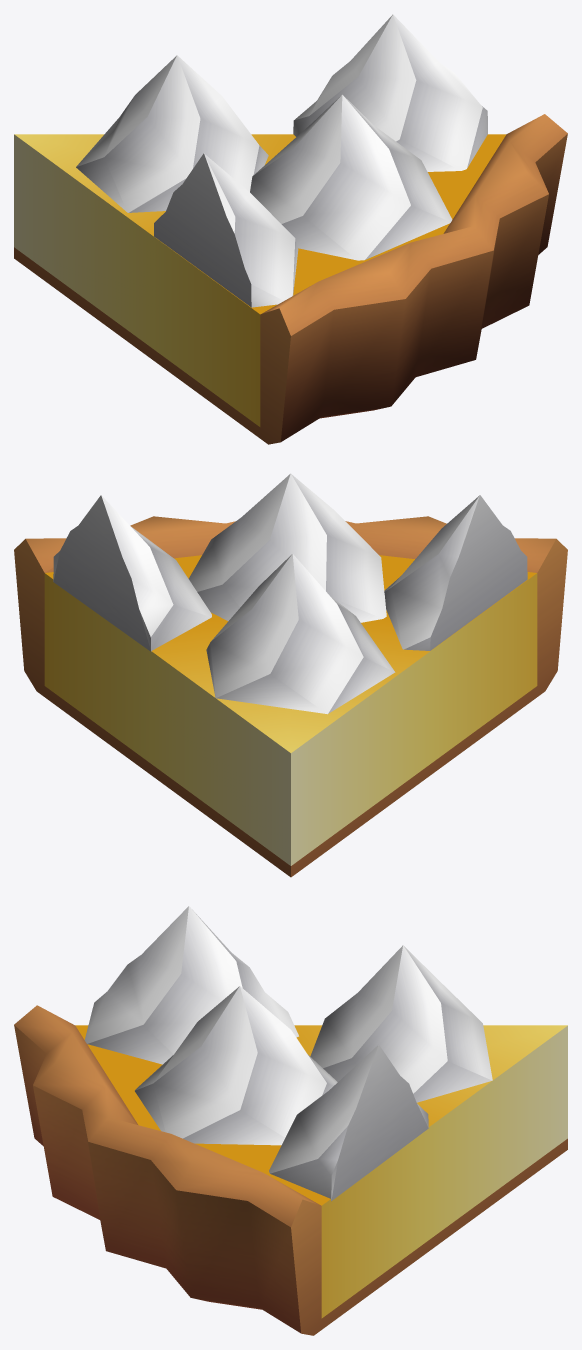
Rendered from m_LemonMeringueTart01_Slice.fbx.
The picture shows the model from 3 angles, top to bottom: view 1: azimuth 30°, elevation 25°; view 2: azimuth 150°, elevation 25°; view 3: azimuth 270°, elevation 25°; orthographic projection.
Parts seen in each view (by area): view 1: m_LemonMeringueTart01_Slice; view 2: m_LemonMeringueTart01_Slice; view 3: m_LemonMeringueTart01_Slice.
Part boxes in pixels (<box>): m_LemonMeringueTart01_Slice: <box>14,14,567,444</box>; m_LemonMeringueTart01_Slice: <box>14,473,567,877</box>; m_LemonMeringueTart01_Slice: <box>14,906,567,1335</box>.
Size of the model in its own units: 12.13 by 6.81 by 14.
